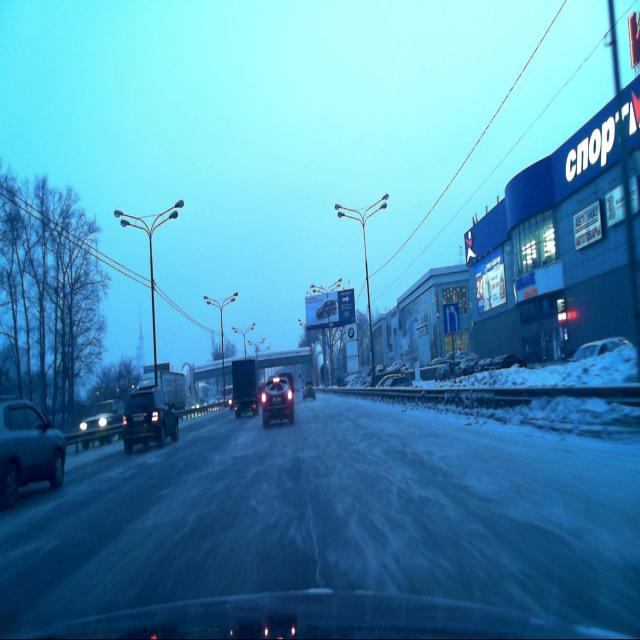road sign: (443, 301, 460, 335)
